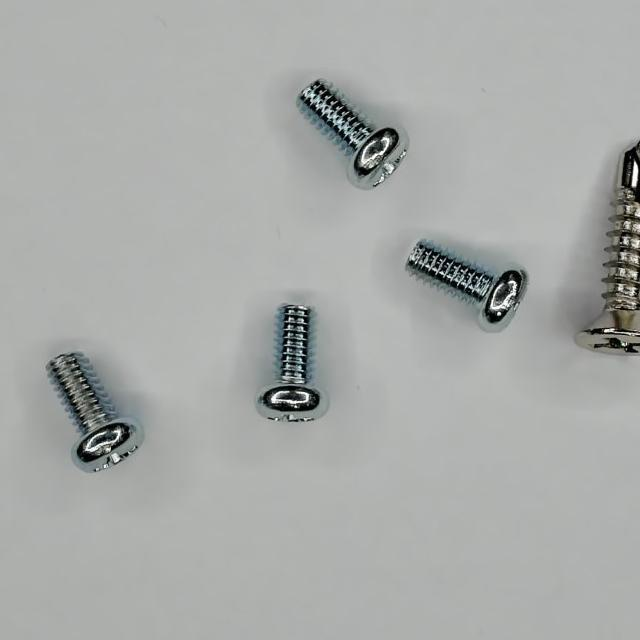Screw: (577, 141, 640, 354), (298, 79, 408, 188), (46, 354, 143, 473), (407, 241, 527, 332), (256, 305, 328, 422)
